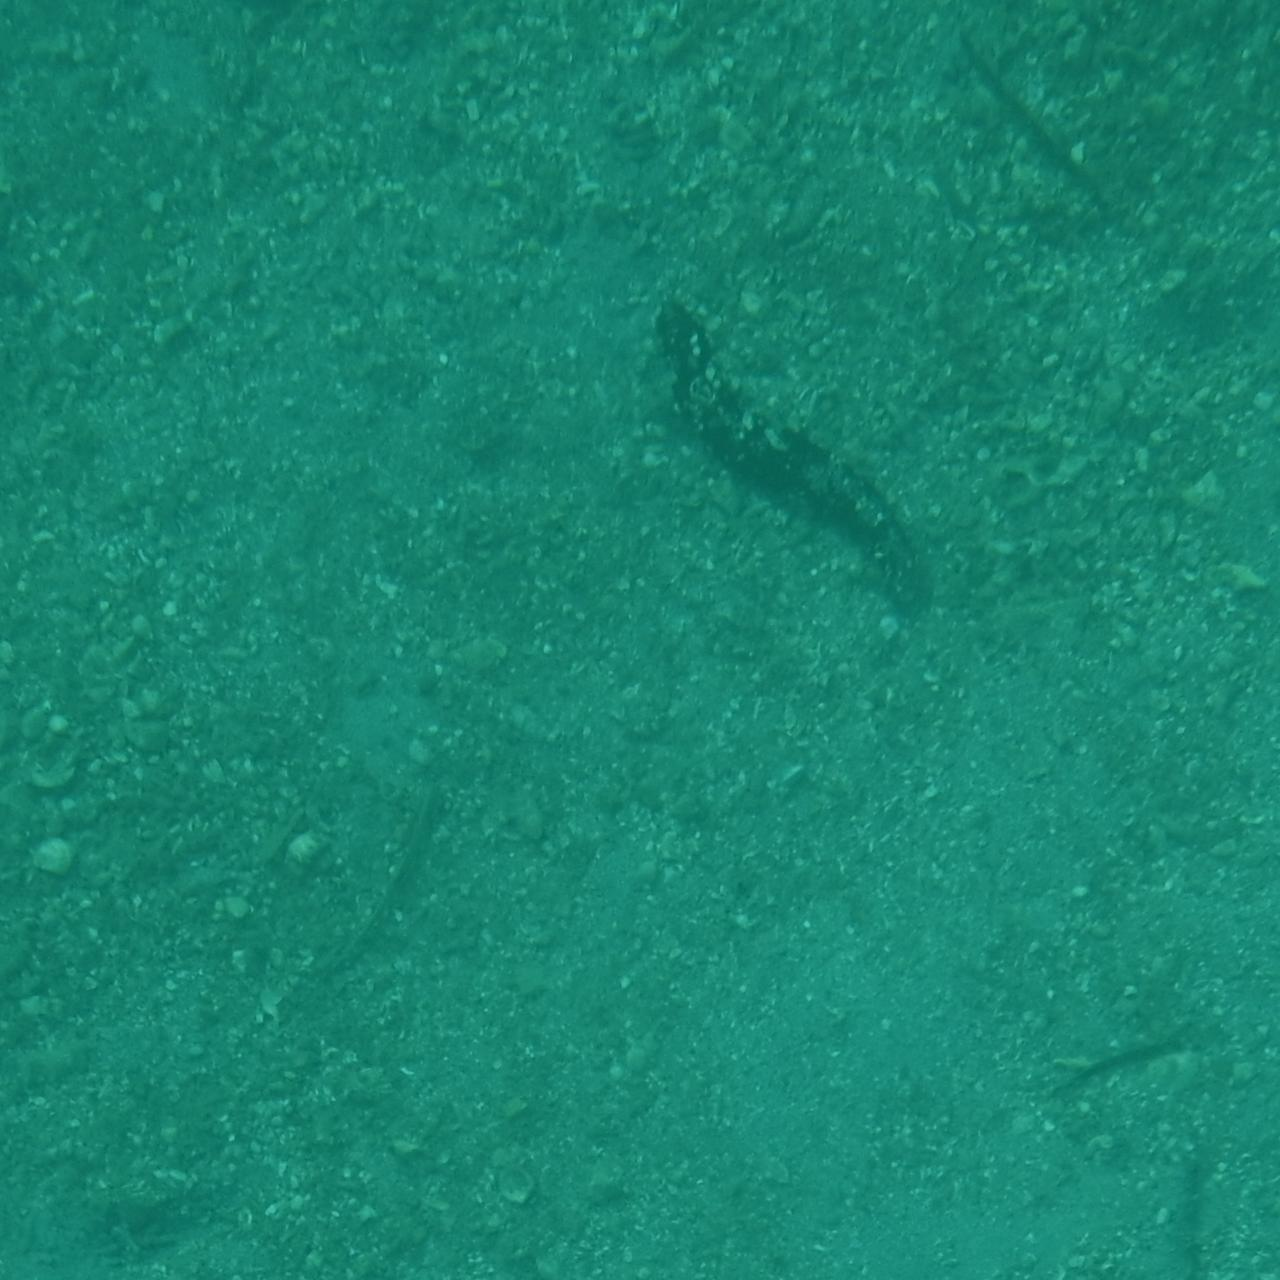Holothuria tubulosa: (640, 285, 914, 621), (1122, 898, 1280, 1214), (1167, 29, 1280, 355), (1162, 0, 1280, 306), (206, 1103, 404, 1280), (987, 1132, 1219, 1280), (0, 0, 352, 83), (0, 206, 198, 354), (1162, 0, 1280, 212), (1136, 1142, 1280, 1280), (0, 0, 193, 79)
